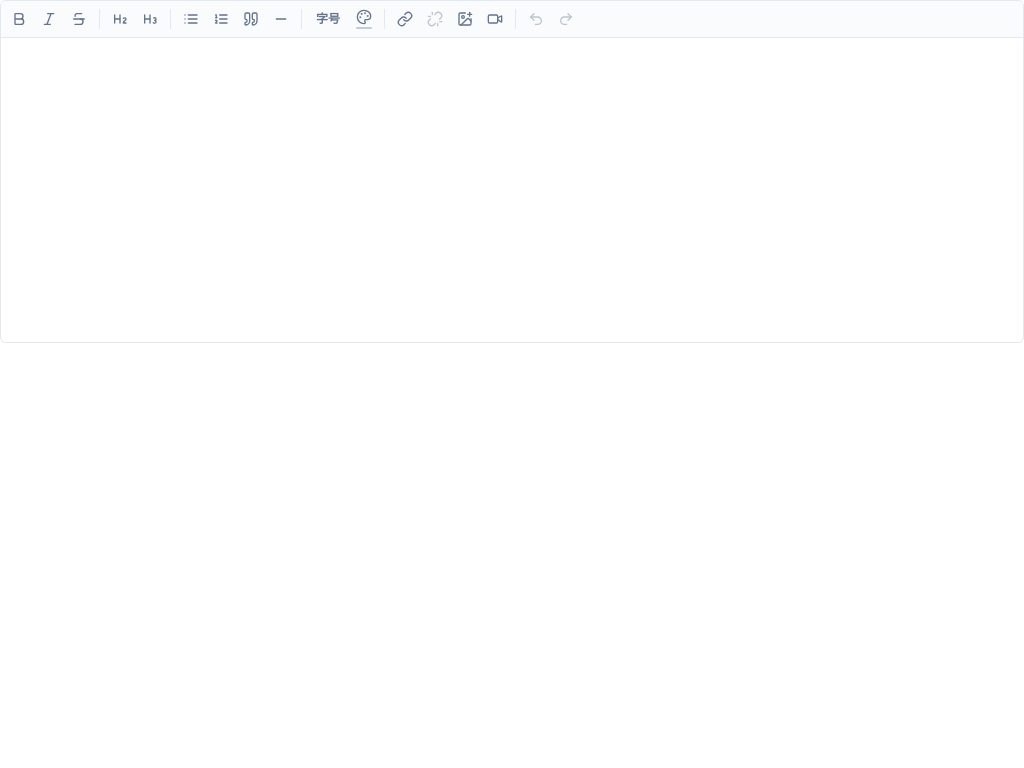
it: 后台(未传 uploader):维持素材库通道 › 插图按钮仍打开素材库,且页面不存在隐藏的本地 file input
Click the button named "插入图片": coordinates (465, 19) top-left (451, 5), bottom-right (479, 33)
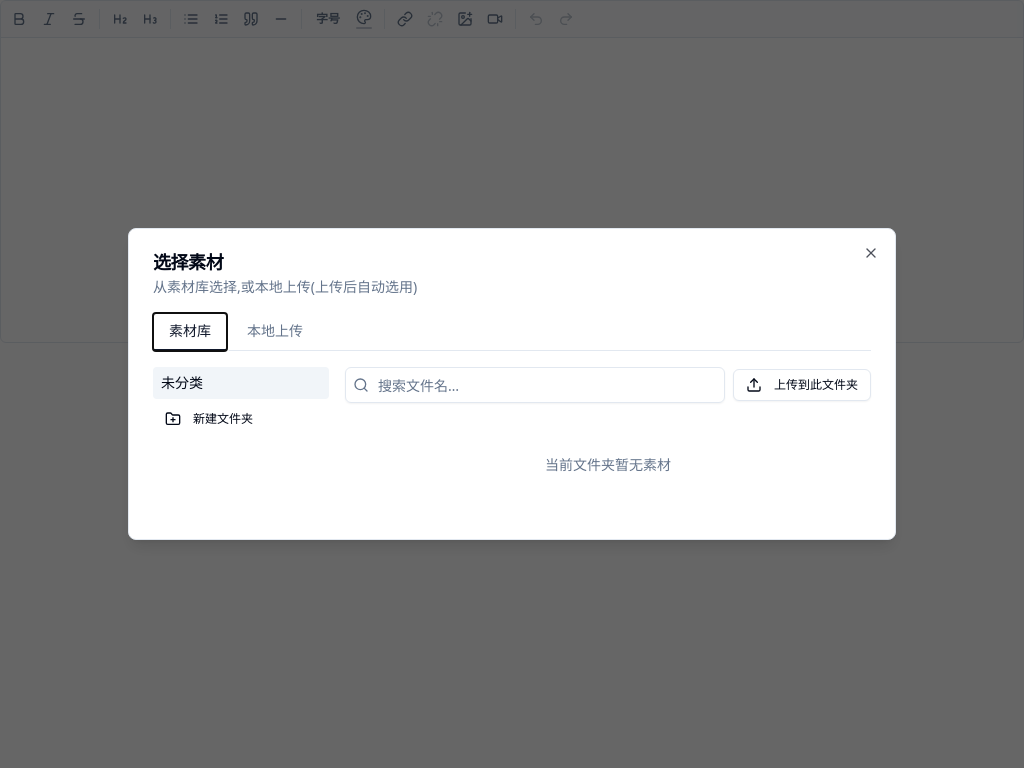
expect the text "选择素材" is shown: met, box top-left (153, 250), bottom-right (223, 274)
